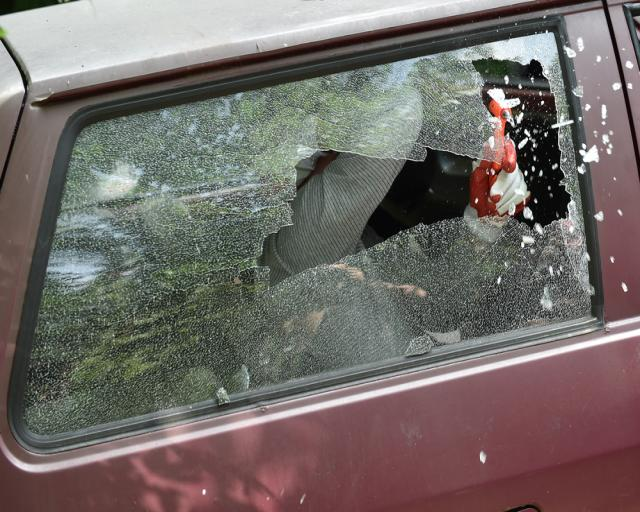glass shatter: (24, 29, 593, 437)
